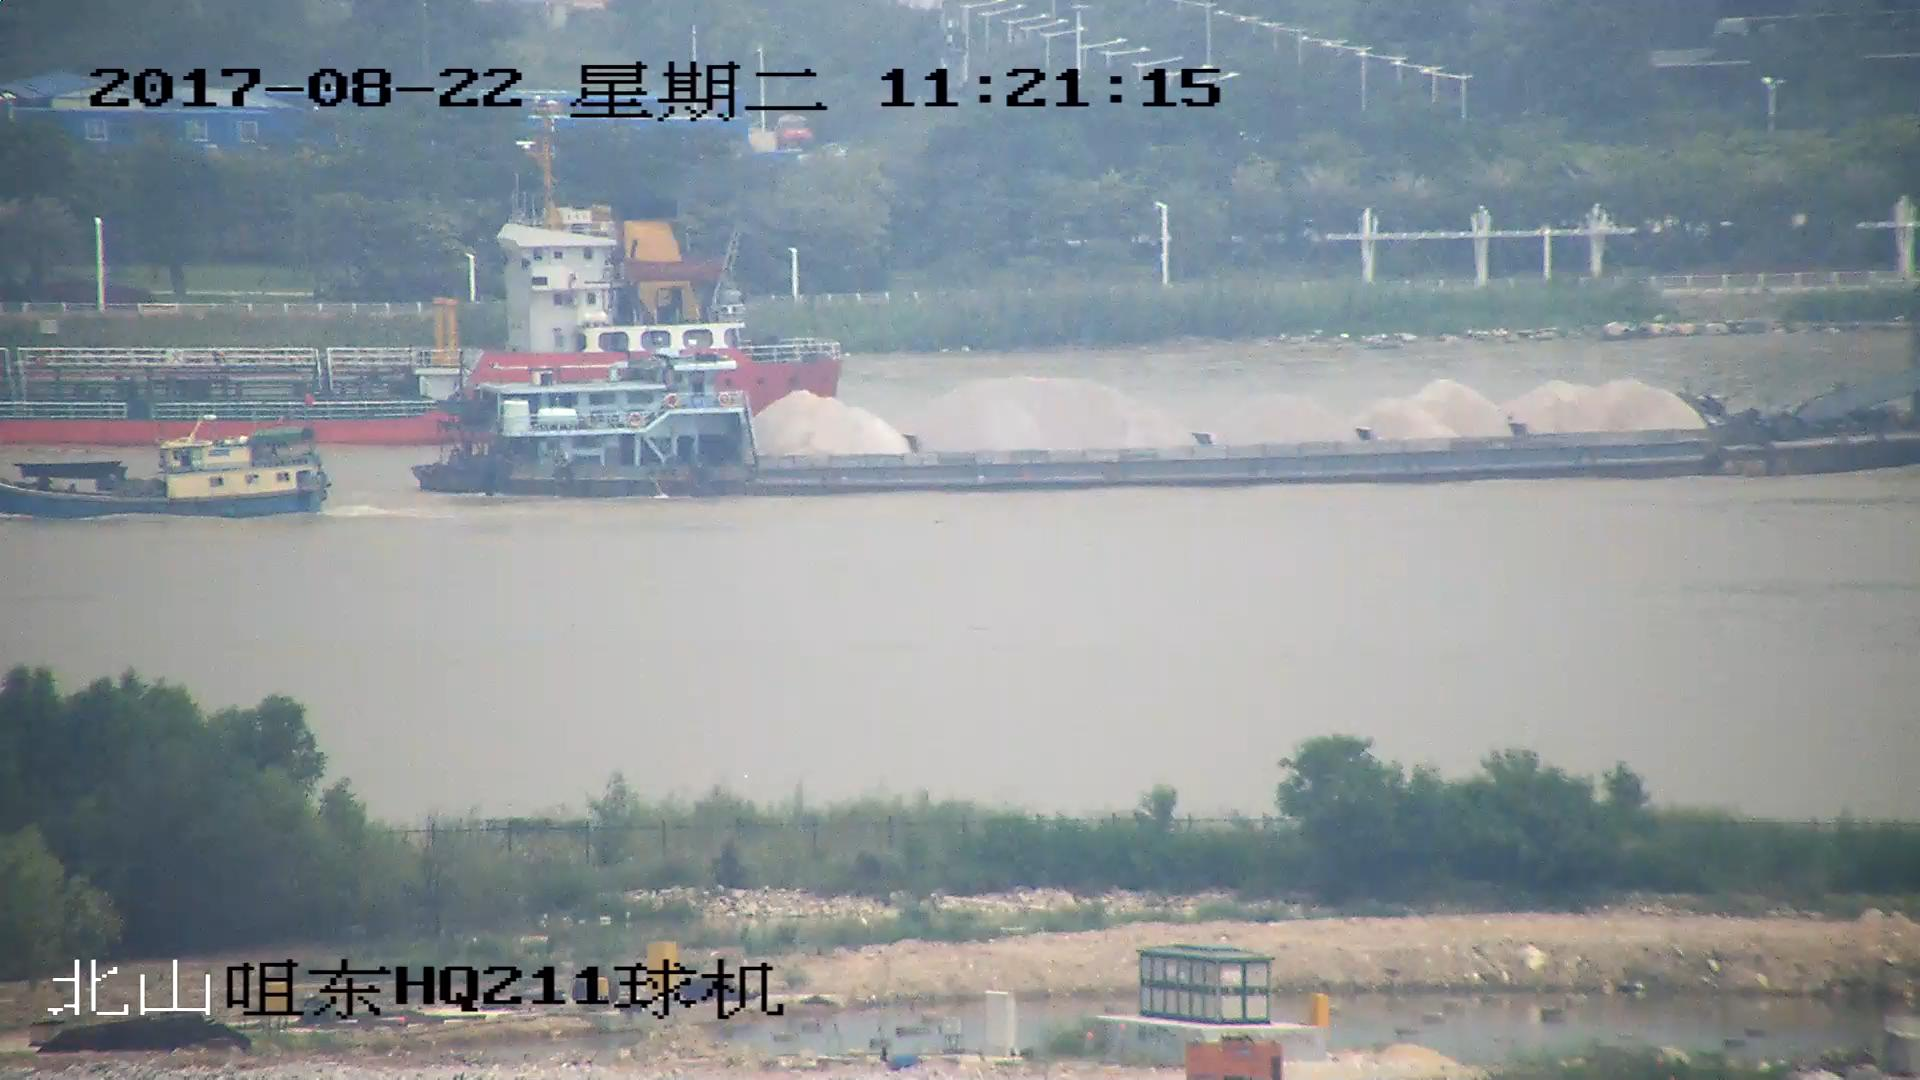fishing boat: (1, 419, 329, 522)
general cargo ship: (1, 121, 848, 441)
ore carrier: (412, 371, 1920, 497)
